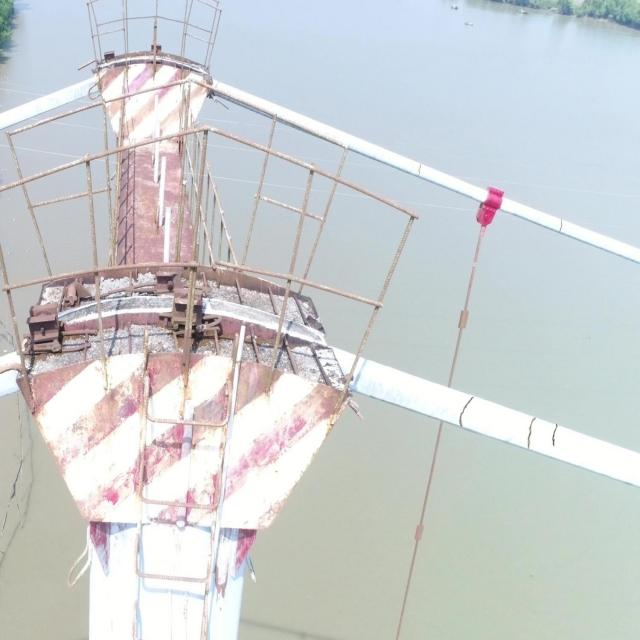crack: (458, 394, 476, 427), (526, 416, 538, 449), (551, 423, 558, 446), (558, 219, 563, 233), (417, 163, 421, 177)
